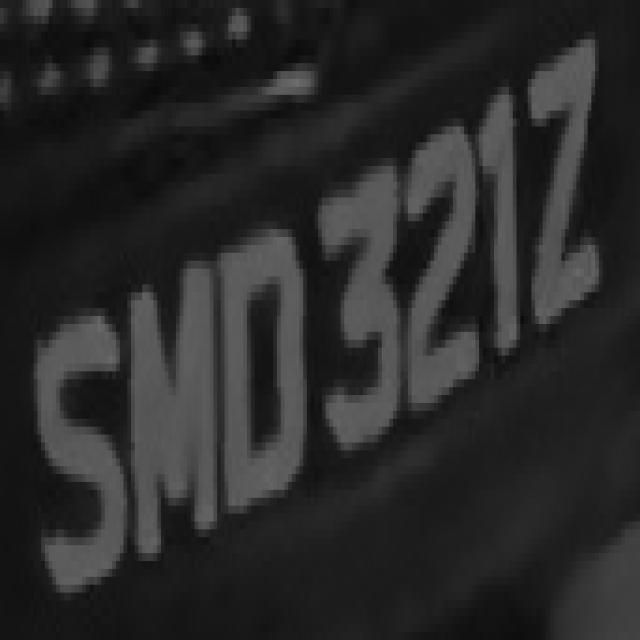1: (464, 39, 528, 372)
2: (374, 103, 476, 450)
3: (300, 134, 404, 466)
D: (206, 229, 303, 545)
M: (120, 229, 217, 601)
S: (22, 276, 128, 608)
Z: (517, 32, 595, 356)
